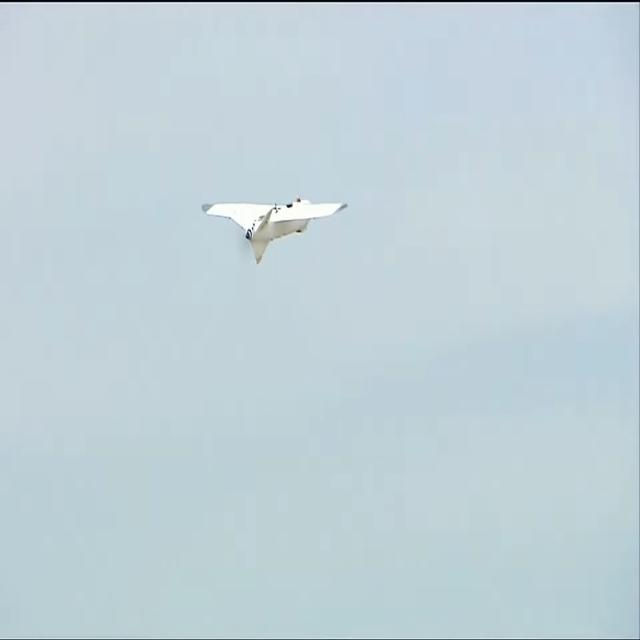iha: (200, 230, 350, 232)
